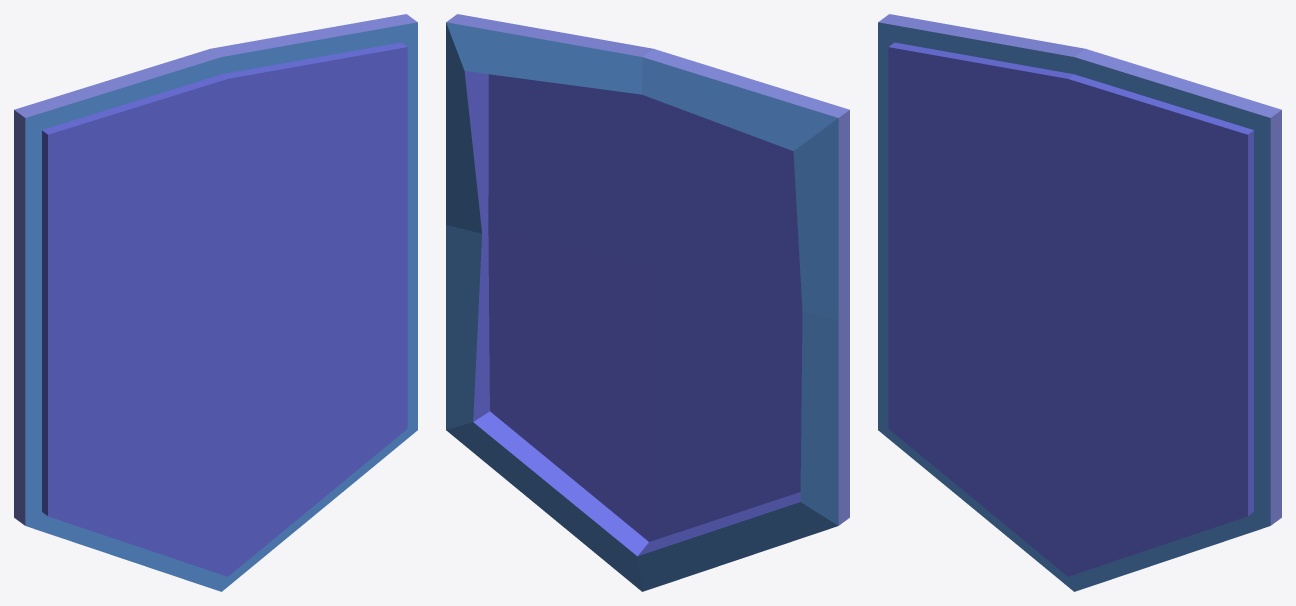
Rendered from shield.glb.
The picture shows the model from 3 angles, left to right: view 1: azimuth 30°, elevation 25°; view 2: azimuth 150°, elevation 25°; view 3: azimuth 330°, elevation 25°; orthographic projection.
Visible parts, largest first — view 1: Plan; view 2: Plan; view 3: Plan.
Part boxes in pixels (left/top/right/bottom): Plan: left=14, top=14, right=417, bottom=591; Plan: left=446, top=14, right=849, bottom=591; Plan: left=878, top=14, right=1281, bottom=591.
Bounding box in the file's own units: 2 × 2.6 × 0.2725.
